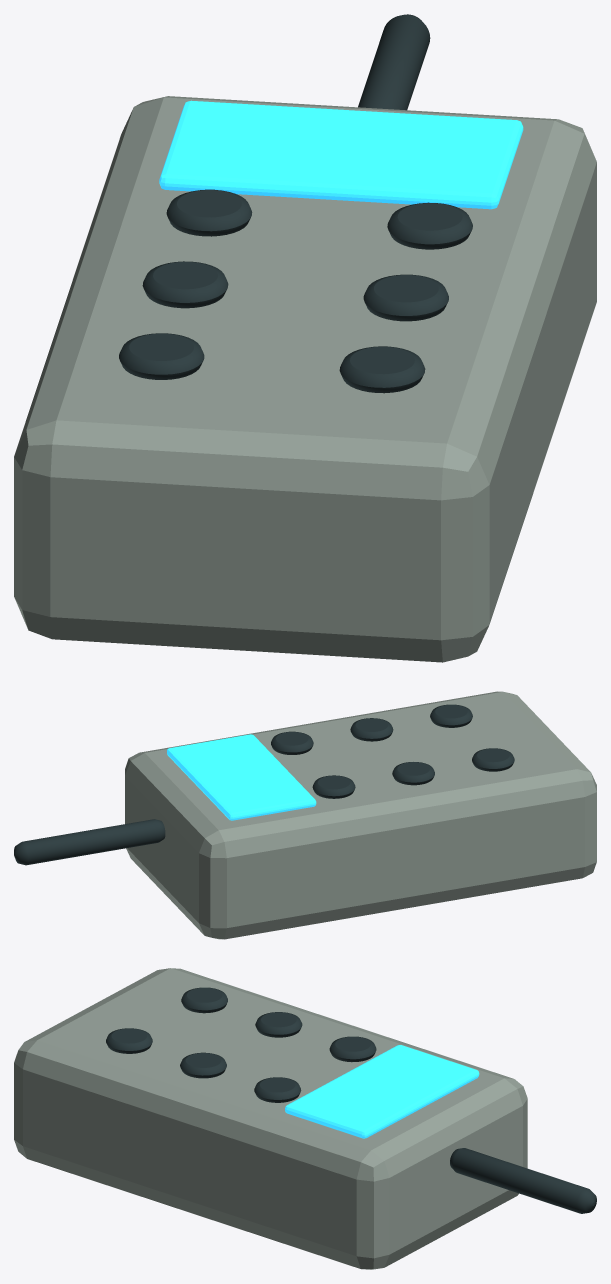
Rendered from battlecity-flare-item.glb.
3 renders of one model, top to bottom at view 1: azimuth 30°, elevation 25°; view 2: azimuth 150°, elevation 25°; view 3: azimuth 270°, elevation 25°, orthographic. The views are drawn at different scales.
Parts seen in each view (by area): view 1: Brushed steel, Research reactor glow, DX dark machinery; view 2: Brushed steel, DX dark machinery, Research reactor glow; view 3: Brushed steel, DX dark machinery, Research reactor glow.
Part boxes in pixels (box(x1,y1,x2,y2)): Brushed steel: box(14, 96, 596, 662); Research reactor glow: box(159, 100, 523, 209); DX dark machinery: box(119, 14, 472, 393); Brushed steel: box(125, 691, 596, 939); DX dark machinery: box(14, 704, 514, 865); Research reactor glow: box(167, 734, 316, 820); Brushed steel: box(14, 968, 527, 1269); DX dark machinery: box(106, 987, 596, 1213); Research reactor glow: box(285, 1045, 479, 1138).
Size of the model in its own units: 0.5279 by 0.151 by 0.6194.
